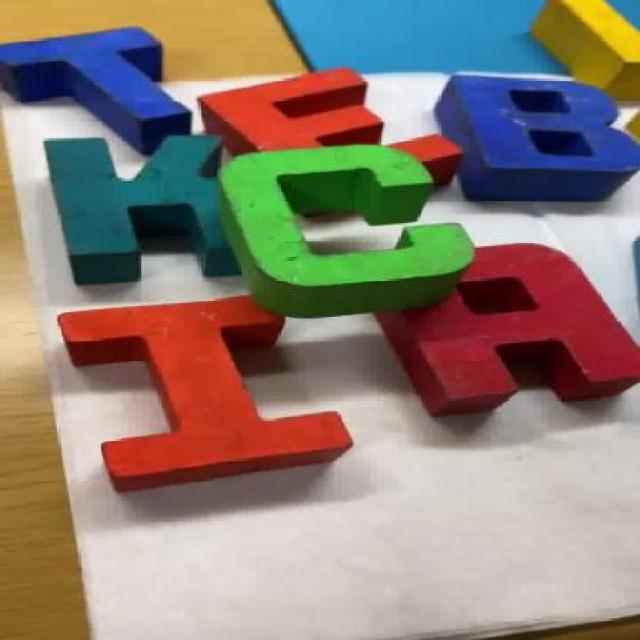A: (379, 241, 636, 416)
B: (435, 72, 640, 192)
C: (225, 151, 486, 318)
I: (66, 287, 348, 502)
K: (24, 129, 262, 289)
T: (0, 25, 202, 149)
